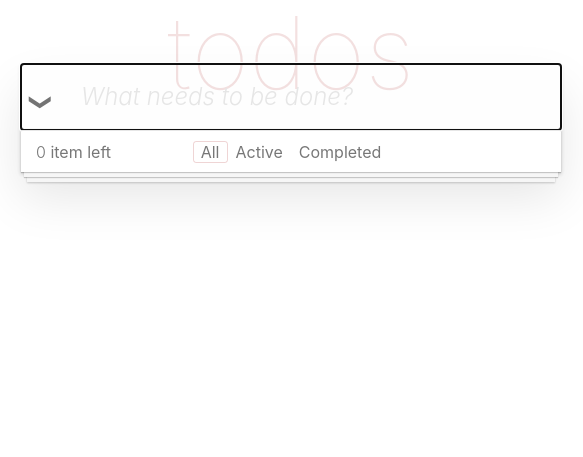
Test: 添加任务 › 输入内容敲回车，内容被添加到任务列表中，输入框被清空
//  输入内容敲回车
Type "Hello World" into the field with test id "new-todo". click: (291,97)
box: [21,64,561,130]
Then press Enter
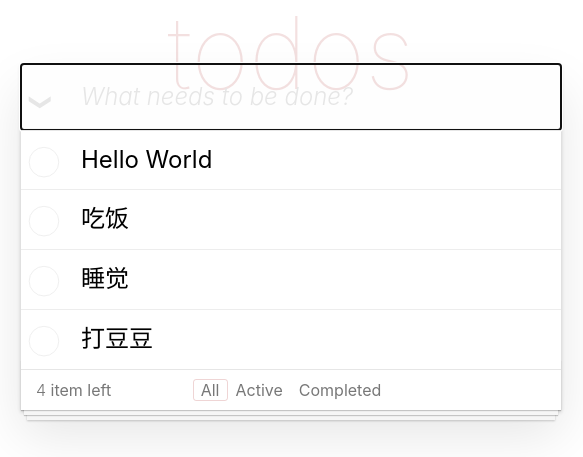
Check: the text "Hello World" is shown, box [81,145,212,174]
